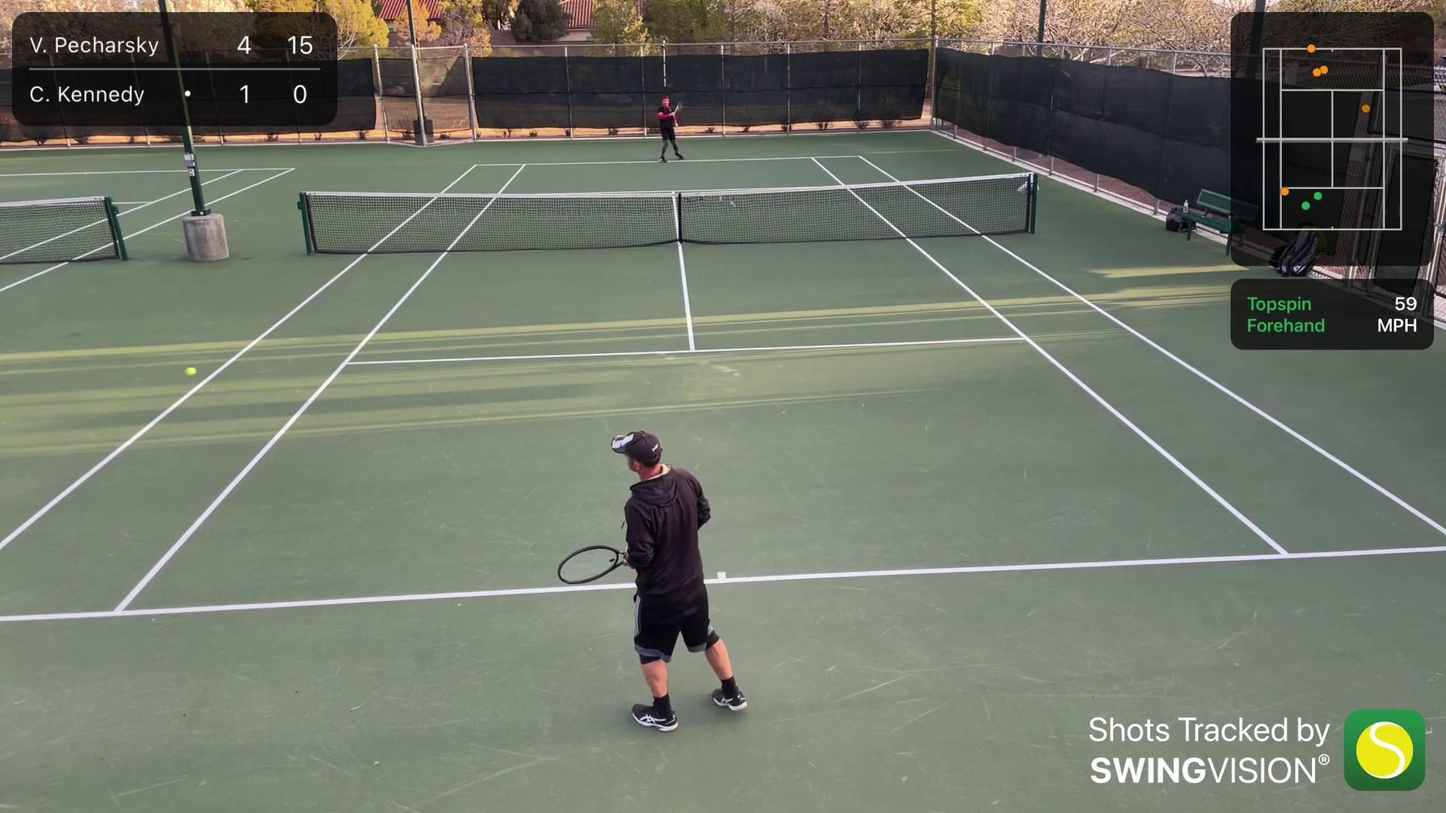ball: (182, 365, 198, 376)
